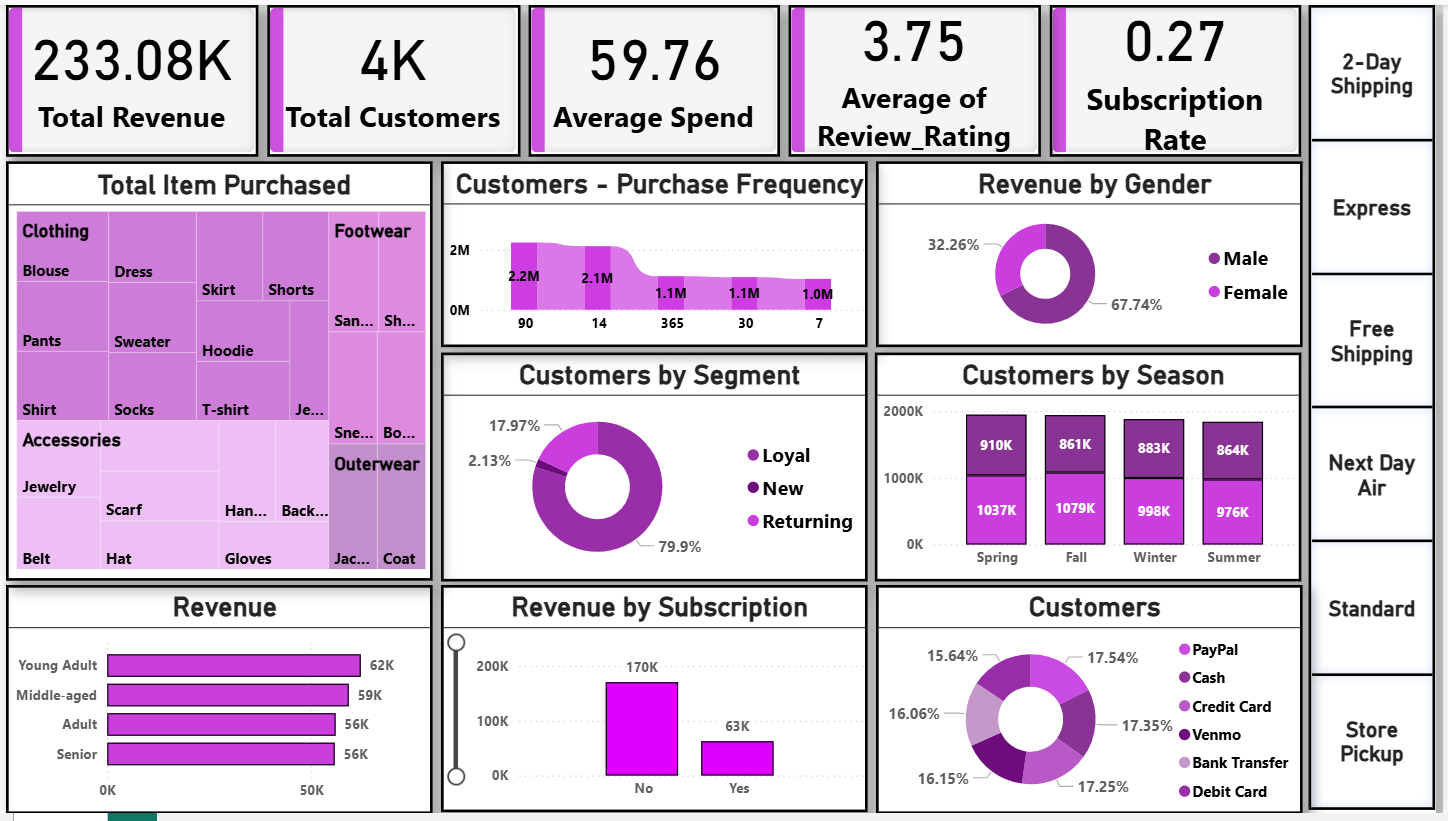

The dashboard page shown, as its layout file describes it:
{"tool":"powerbi","page":{"name":"Page 1","canvas":[1280,720],"ordinal":0},"visuals":[{"type":"cardVisual","fields":{"Data":["customer_shopping_analysis.Total Revenue"]},"box":[0,0,225,135],"z":0},{"type":"cardVisual","fields":{"Data":["customer_shopping_analysis.Subscription Rate"]},"box":[930,0,224.4,135],"z":1000},{"type":"cardVisual","fields":{"Data":["customer_shopping_analysis.Total Customers"]},"box":[232.3,0,225.6,135],"z":2000},{"type":"cardVisual","fields":{"Data":["customer_shopping_analysis.Average Spend"]},"box":[465.3,0,224.4,135],"z":3000},{"type":"cardVisual","fields":{"Data":["Avg(customer_shopping_analysis.review_rating)"]},"box":[697,0,225,135],"z":4000},{"type":"clusteredBarChart","title":"Revenue ","fields":{"Y":["customer_shopping_analysis.Total Revenue"],"Category":["customer_shopping_analysis.age_group"]},"box":[0,516.4,380,203.9],"z":5000},{"type":"donutChart","title":"Revenue by gender","fields":{"Y":["customer_shopping_analysis.Total Revenue"],"Category":["customer_shopping_analysis.gender"]},"box":[774.5,138.7,380,165.3],"z":6000},{"type":"donutChart","title":"Customers by Segment","fields":{"Series":["customer_shopping_analysis.Customer Segment"],"Y":["customer_shopping_analysis.Total Customers"]},"box":[387.3,309,380,203.9],"z":7000},{"type":"clusteredColumnChart","title":"Revenue by Subscription","fields":{"Category":["customer_shopping_analysis.subscription_status"],"Y":["customer_shopping_analysis.Total Revenue"]},"box":[387.3,516.4,380,202.7],"z":8000},{"type":"columnChart","title":"Total Customer","fields":{"Category":["customer_shopping_analysis.season"],"Y":["Sum(customer_shopping_analysis.customer_id)"],"Series":["customer_shopping_analysis.gender"]},"box":[774,309,380,204],"z":9000},{"type":"advancedSlicerVisual","fields":{"Values":["customer_shopping_analysis.shipping_type"]},"box":[1159.4,0,113.4,720.2],"z":10000},{"type":"pieChart","title":"Customers","fields":{"Category":["customer_shopping_analysis.payment_method"],"Y":["Sum(customer_shopping_analysis.customer_id)"]},"box":[774.5,516.4,380,203.9],"z":11000},{"type":"ribbonChart","title":"Customers by frequency","fields":{"Category":["customer_shopping_analysis.days_of_frequency"],"Y":["Sum(customer_shopping_analysis.customer_id)"]},"box":[387,139,380,165.3],"z":12000},{"type":"treemap","title":"Total Item Purchased","fields":{"Group":["customer_shopping_analysis.category"],"Values":["CountNonNull(customer_shopping_analysis.customer_id)"],"Details":["customer_shopping_analysis.item_purchased"]},"box":[0,138.7,380,374],"z":13000}]}

Visuals, with their boxes in screenshot pixels (x1, y1, x2, y2), scaled from the page's 1280x720 canvas onto the 1448x821 screenshot:
cardVisual - customer_shopping_analysis.Total Revenue: [x1=0, y1=0, x2=255, y2=154]
cardVisual - customer_shopping_analysis.Subscription Rate: [x1=1052, y1=0, x2=1306, y2=154]
cardVisual - customer_shopping_analysis.Total Customers: [x1=263, y1=0, x2=518, y2=154]
cardVisual - customer_shopping_analysis.Average Spend: [x1=526, y1=0, x2=780, y2=154]
cardVisual - Avg(customer_shopping_analysis.review_rating): [x1=788, y1=0, x2=1043, y2=154]
"Revenue " clusteredBarChart: [x1=0, y1=589, x2=430, y2=820]
"Revenue by gender" donutChart: [x1=876, y1=158, x2=1306, y2=347]
"Customers by Segment" donutChart: [x1=438, y1=352, x2=868, y2=585]
"Revenue by Subscription" clusteredColumnChart: [x1=438, y1=589, x2=868, y2=820]
"Total Customer" columnChart: [x1=876, y1=352, x2=1305, y2=585]
advancedSlicerVisual - customer_shopping_analysis.shipping_type: [x1=1312, y1=0, x2=1440, y2=820]
"Customers" pieChart: [x1=876, y1=589, x2=1306, y2=820]
"Customers by frequency" ribbonChart: [x1=438, y1=158, x2=868, y2=347]
"Total Item Purchased" treemap: [x1=0, y1=158, x2=430, y2=585]
